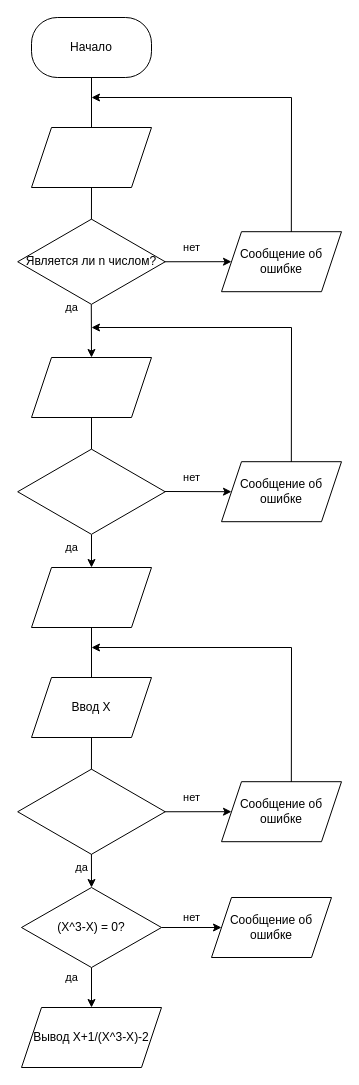
Some shapes in this 359 by 1085 pixel diagram are drawn without their labels. Here are the shapes that lost their labels. From the top down, the centre of each, then its label:
pixel 91 157: Ввод N
pixel 91 387: Ввод M
pixel 91 491: Является ли M числом?
pixel 91 597: Вывод: 1) ++n * ++m 2) m++ < n 3) n++ > m
pixel 91 811: Является ли X числом?
